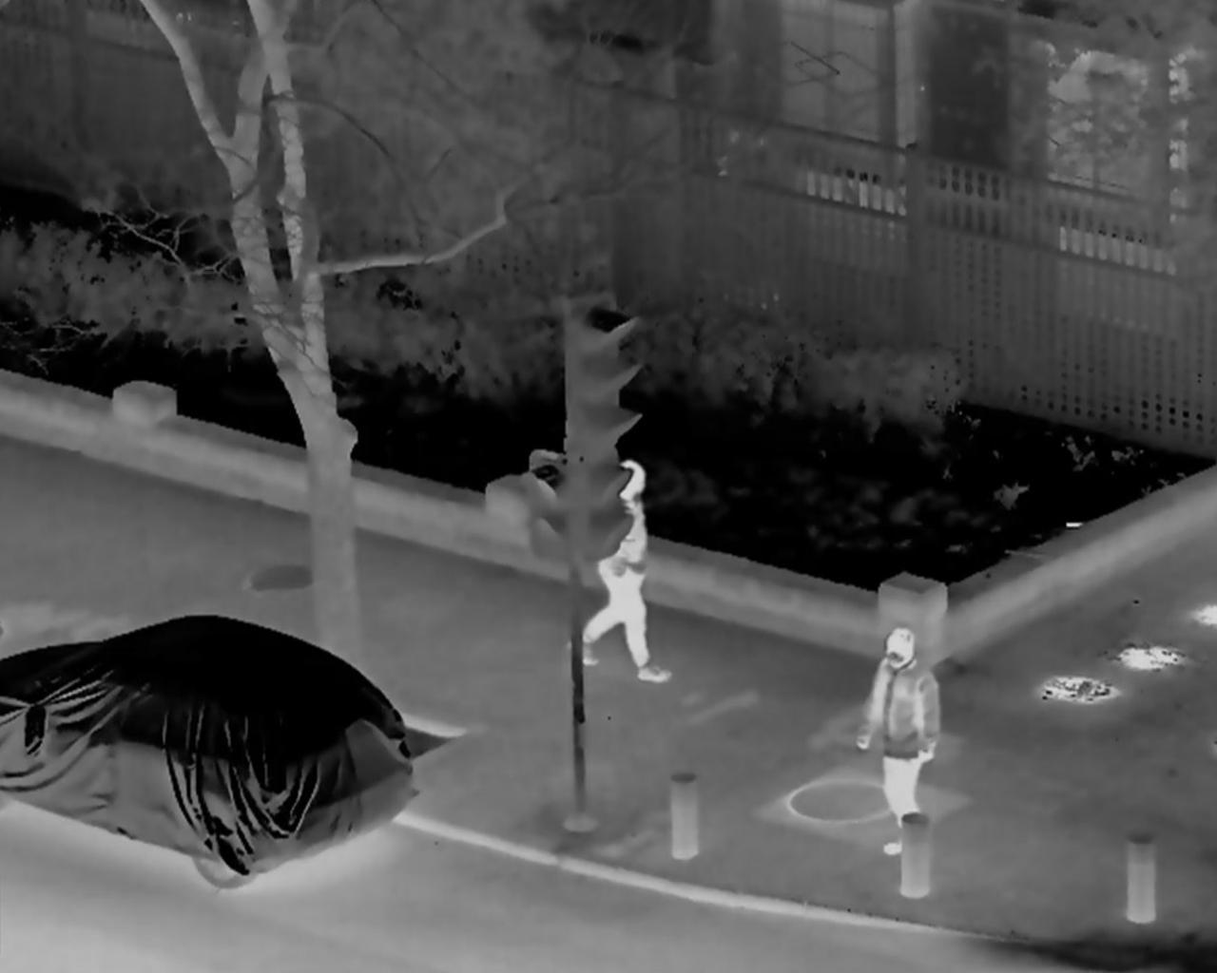person: (852, 628, 943, 873), (571, 459, 667, 691)
